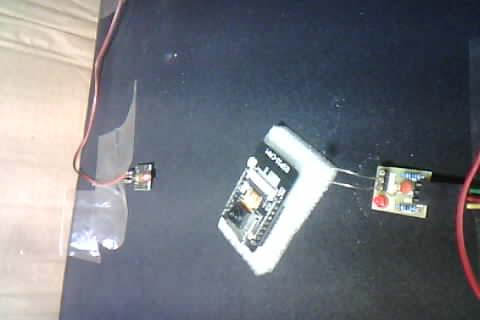esp32: (218, 123, 316, 271)
